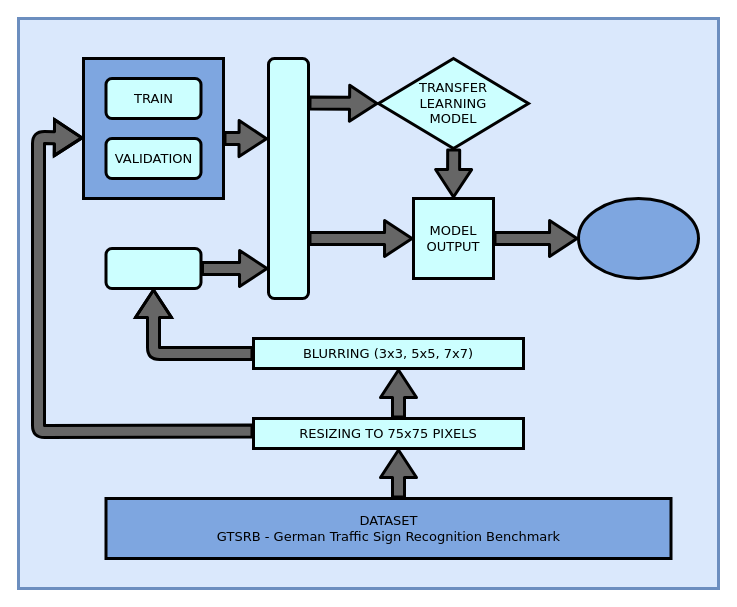
Some shapes in this 737 by 607 pixel diagram are drawn without their labels. Here are the shapes that lost their labels. From the top down, the centre of each, then its label:
At (x=288, y=178): "T E N S O R F L O W".
At (x=638, y=238): "OUTPUT FOR TEST IMAGES".
At (x=153, y=268): "TEST".
